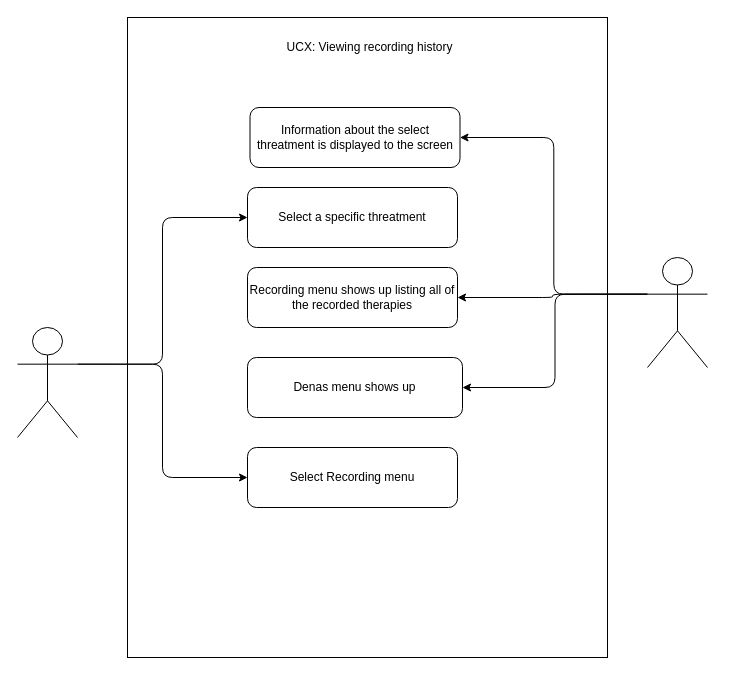
This 734x675 diagram has some shape labels left out. The shapes that lost their labels are listed below. From the top down, each one's box as (x1, y1, x2, y2) in pixels, then its label:
(646, 256, 708, 368): DENAS - PCM
(16, 326, 78, 438): User
